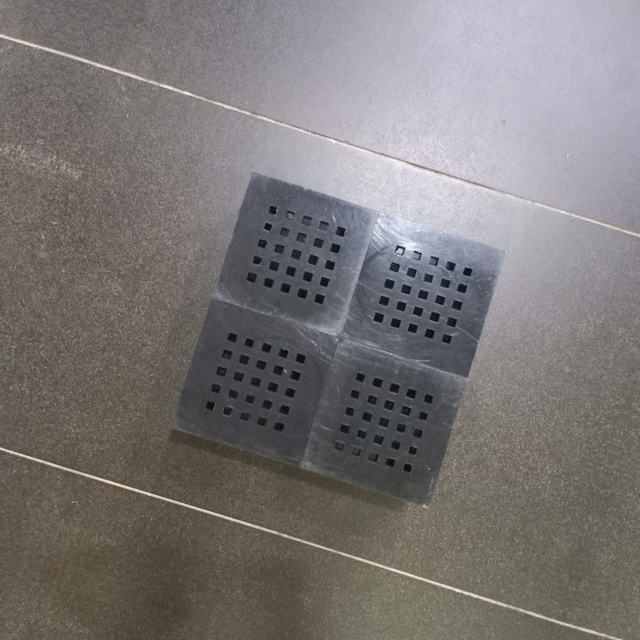pallet: (158, 161, 521, 514)
